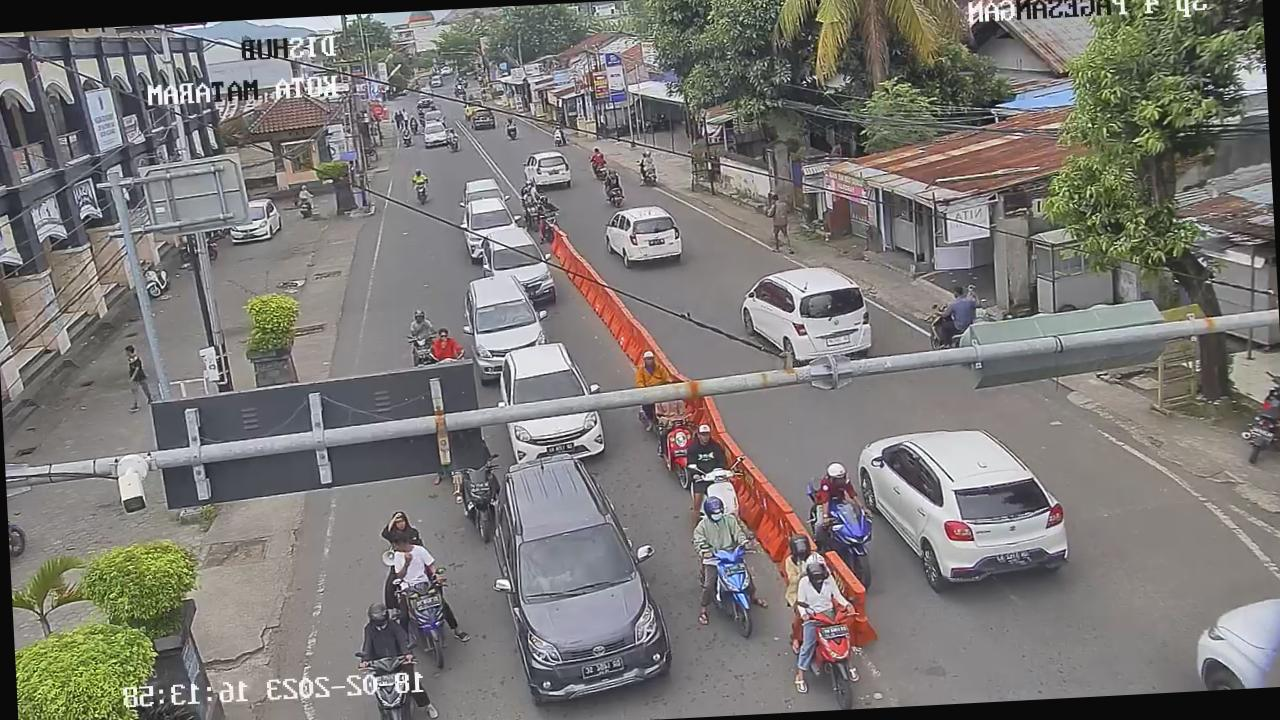car: (492, 433, 678, 713), (854, 426, 1074, 590), (488, 330, 614, 472), (738, 268, 871, 369), (470, 222, 563, 315), (462, 270, 552, 358), (604, 204, 686, 270), (456, 192, 526, 266), (224, 192, 284, 254)
motorcycle: (788, 594, 879, 712), (401, 556, 469, 670), (814, 487, 881, 593), (702, 534, 766, 640), (452, 452, 509, 545), (695, 450, 758, 524), (652, 409, 701, 490), (406, 327, 446, 375), (536, 207, 564, 244), (141, 266, 168, 298), (410, 174, 434, 205), (522, 198, 544, 230)
person: (801, 456, 868, 532), (686, 489, 752, 564), (792, 552, 856, 622), (684, 418, 739, 488), (352, 596, 410, 660), (386, 530, 442, 592), (936, 290, 979, 350), (632, 343, 677, 389), (430, 322, 465, 372), (406, 306, 436, 346), (409, 164, 430, 188), (537, 194, 556, 218), (588, 143, 608, 165), (603, 166, 623, 187), (638, 149, 655, 171), (520, 178, 536, 198), (502, 116, 518, 131)
